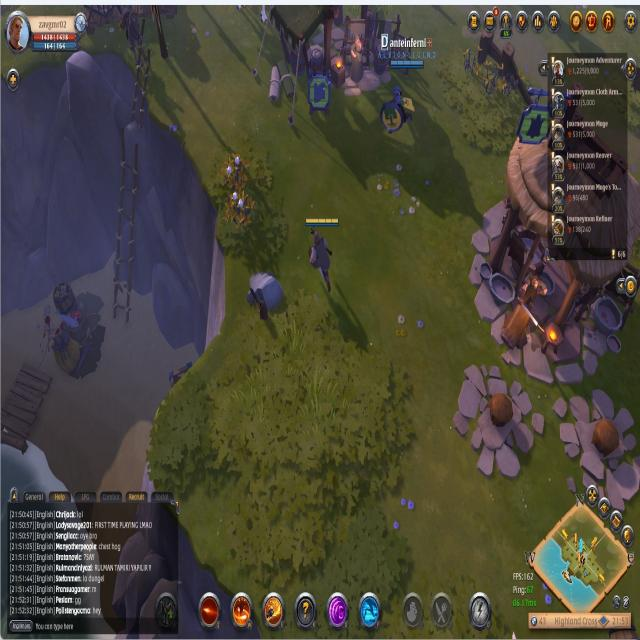stone: (245, 267, 288, 323)
